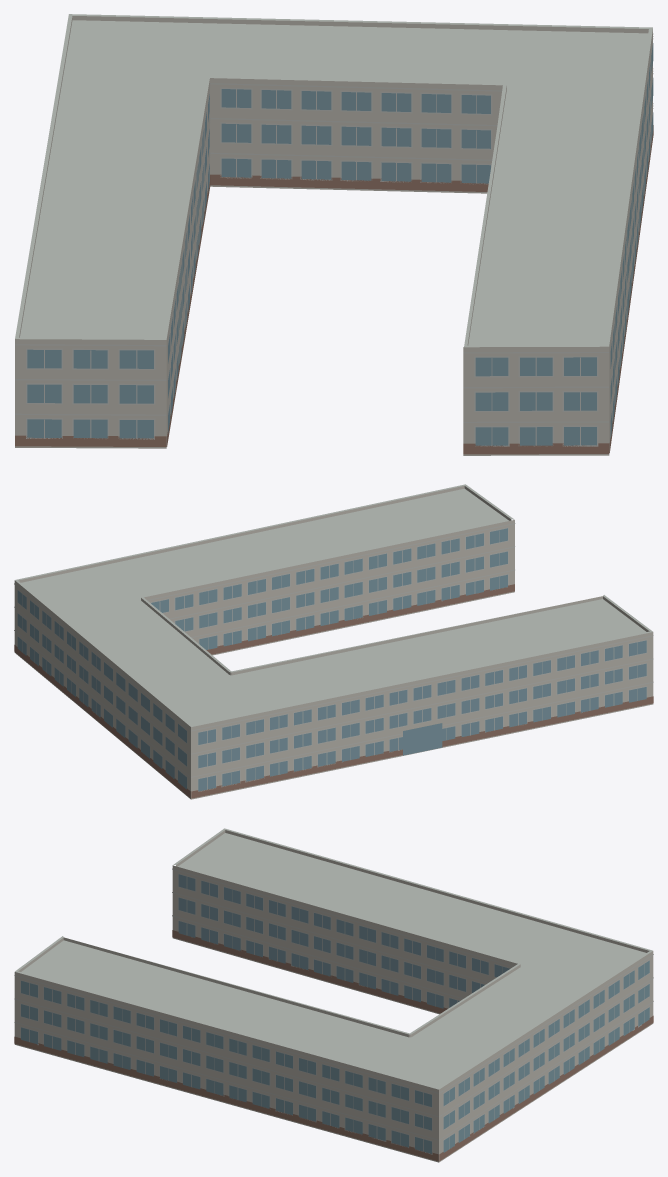
Rendered from public-63365f3c-d567-43c1-9161-b36f4f3dab2a.glb.
The picture shows the model from 3 angles, top to bottom: view 1: azimuth 30°, elevation 25°; view 2: azimuth 150°, elevation 25°; view 3: azimuth 270°, elevation 25°; orthographic projection. The views are drawn at different scales.
Parts seen in each view (by area): view 1: public-63365f3c-d567-43c1-9161-b36f4f3dab2a; view 2: public-63365f3c-d567-43c1-9161-b36f4f3dab2a; view 3: public-63365f3c-d567-43c1-9161-b36f4f3dab2a.
Boxes of the visible parts, x1,y1,x2,y2 form: public-63365f3c-d567-43c1-9161-b36f4f3dab2a: [15, 14, 653, 455]; public-63365f3c-d567-43c1-9161-b36f4f3dab2a: [14, 484, 653, 799]; public-63365f3c-d567-43c1-9161-b36f4f3dab2a: [14, 828, 653, 1162].
Size of the model in its own units: 70.41 by 9.15 by 72.74.
